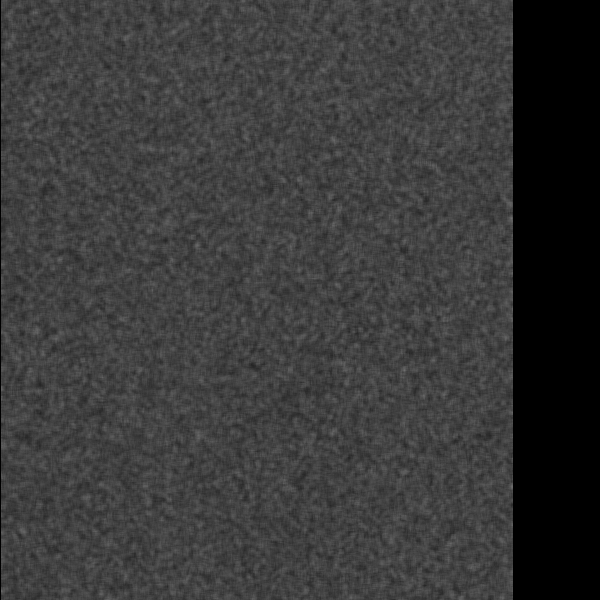spark: (293, 549, 360, 577)
